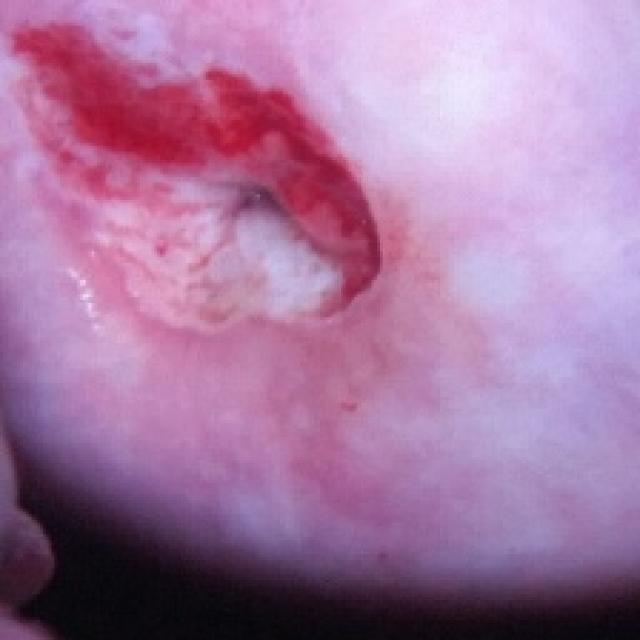type-3: (0, 0, 639, 555)
